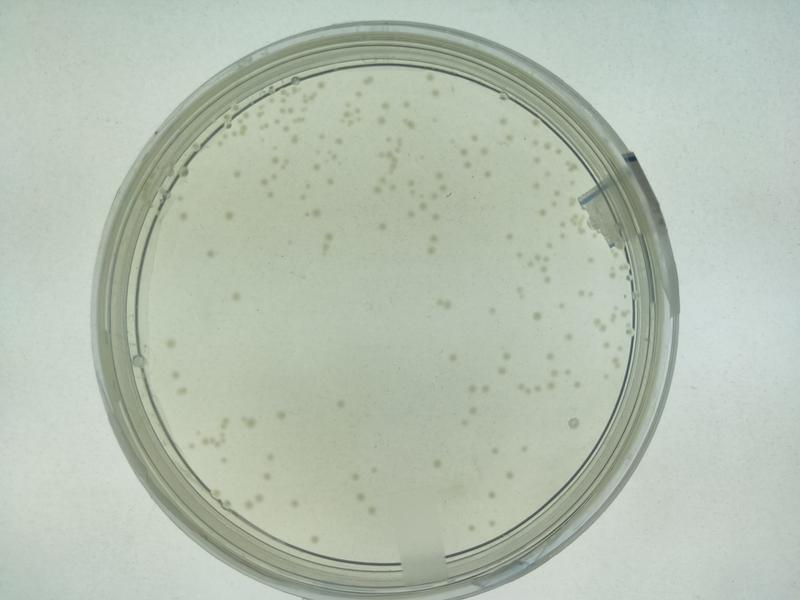colony: (436, 341, 468, 376), (196, 233, 227, 269), (427, 451, 455, 480), (161, 327, 187, 357), (272, 401, 297, 429), (305, 527, 335, 548), (528, 304, 550, 330), (339, 464, 367, 484), (333, 391, 356, 415), (372, 219, 395, 242), (228, 287, 249, 312), (284, 495, 307, 517), (222, 204, 243, 227), (499, 229, 523, 249), (483, 300, 501, 324), (428, 164, 449, 183), (349, 489, 372, 506)
